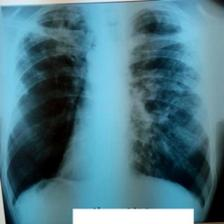tuberculosis: (2, 5, 216, 224)
